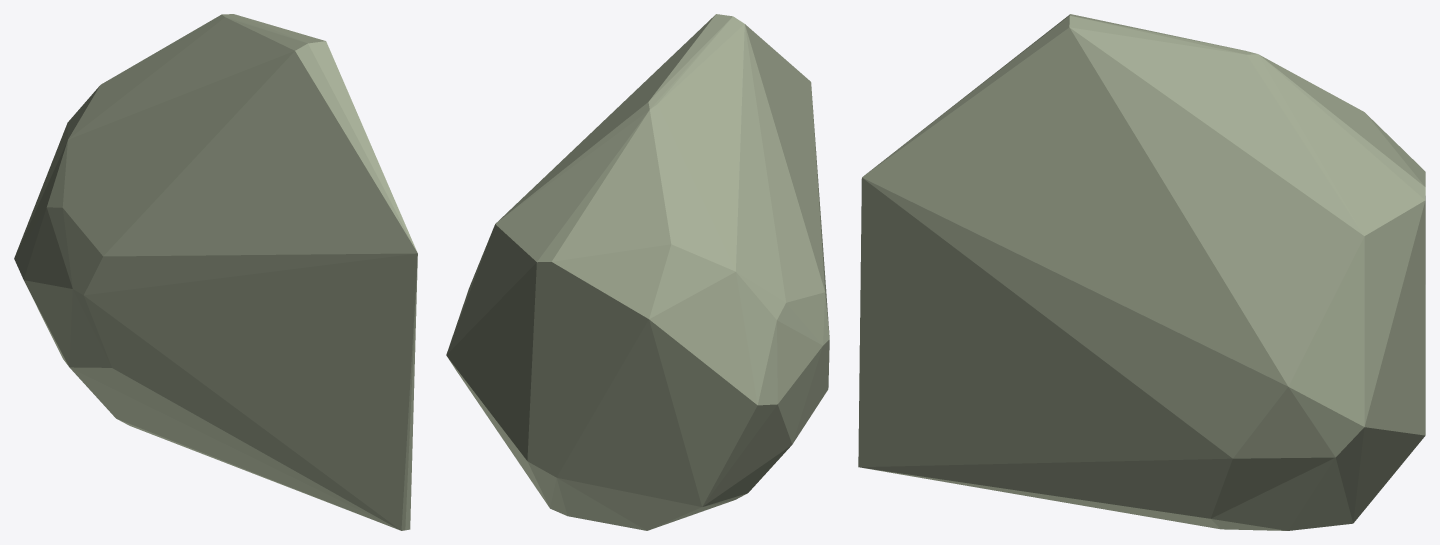
Rendered from kitchenware_kettle_p01.glb.
The picture shows the model from 3 angles, left to right: view 1: azimuth 30°, elevation 25°; view 2: azimuth 150°, elevation 25°; view 3: azimuth 270°, elevation 25°; orthographic projection. The views are drawn at different scales.
Visible parts, largest first — view 1: geometry_0; view 2: geometry_0; view 3: geometry_0.
Part boxes in pixels (bbox=[...]): geometry_0: bbox=[14, 14, 417, 530]; geometry_0: bbox=[446, 14, 829, 530]; geometry_0: bbox=[858, 14, 1425, 530].
Size of the model in its own units: 0.3626 by 0.4571 by 0.4796.
